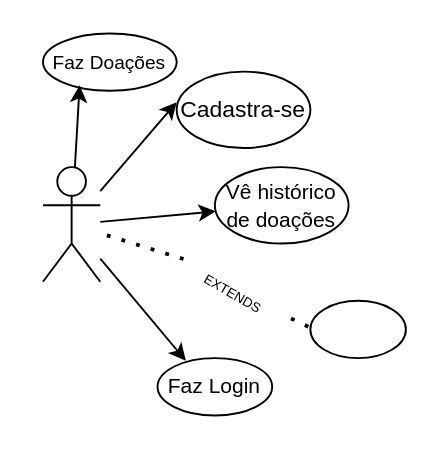
Some shapes in this 439 by 449 pixel diagram are drawn without their labels. The box of each missing label's shape, as (x1, y1, x2, y2) in pixels:
Olha as ONGs: (308, 299, 406, 358)
Usuario: (41, 165, 100, 282)
